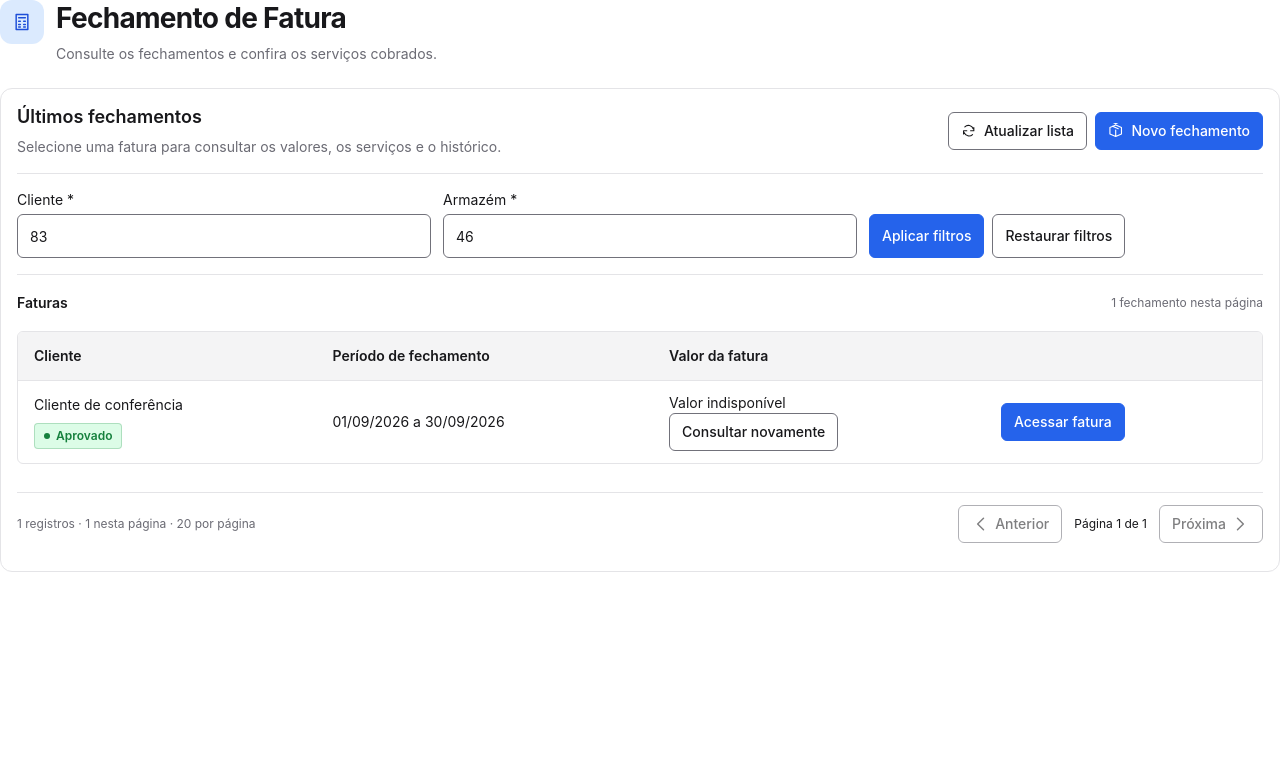
Test case: recusa versão de outra fatura sem mostrar zero ou oferecer confirmação
Expected: the text "Valor indisponível Consultar novamente" is shown, x1=669 y1=394 x2=838 y2=450
Click the button "Acessar fatura" at (1063,422), box x1=1001 y1=402 x2=1125 y2=440
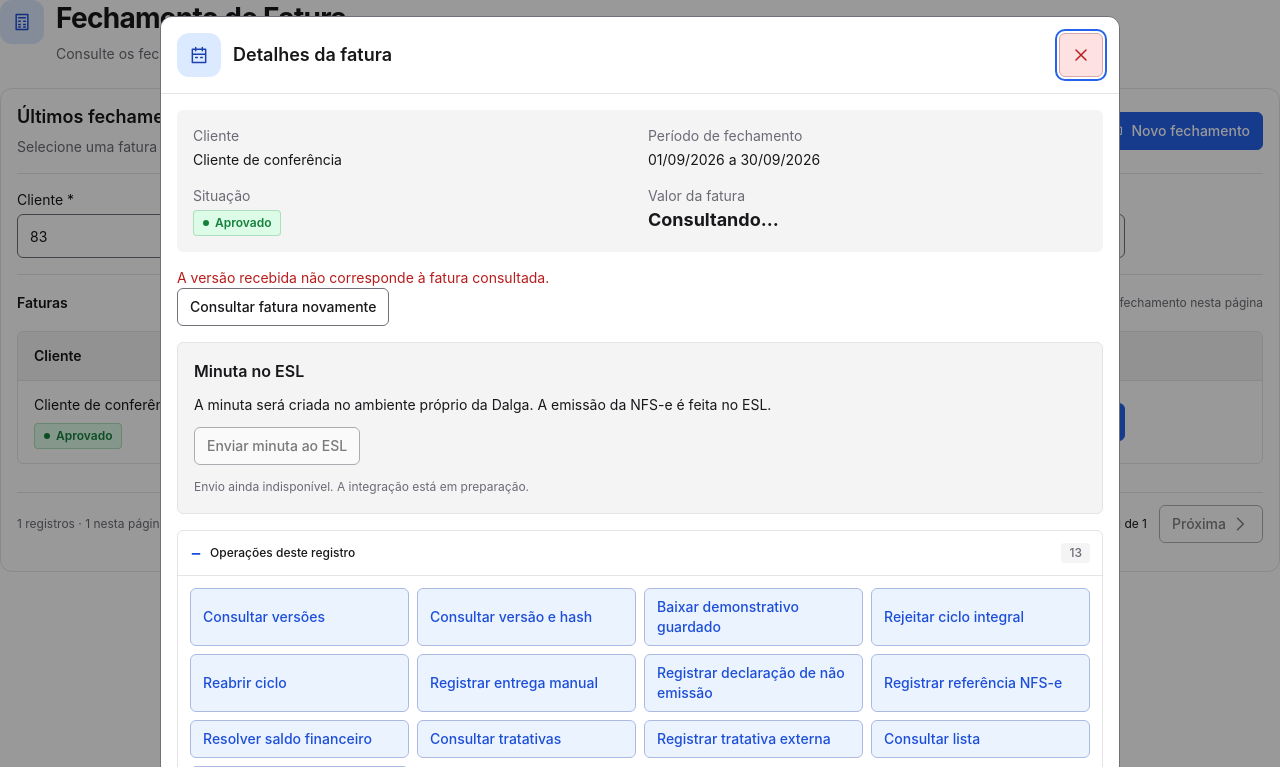
Now the text "A versão recebida não corresponde à fatura consultada." is shown, box x1=177 y1=269 x2=549 y2=286
